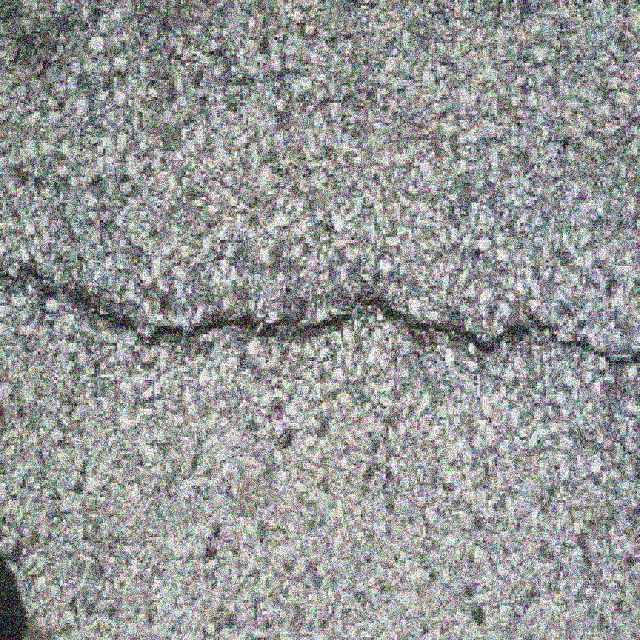SurfaceCrack: (8, 206, 640, 424)
